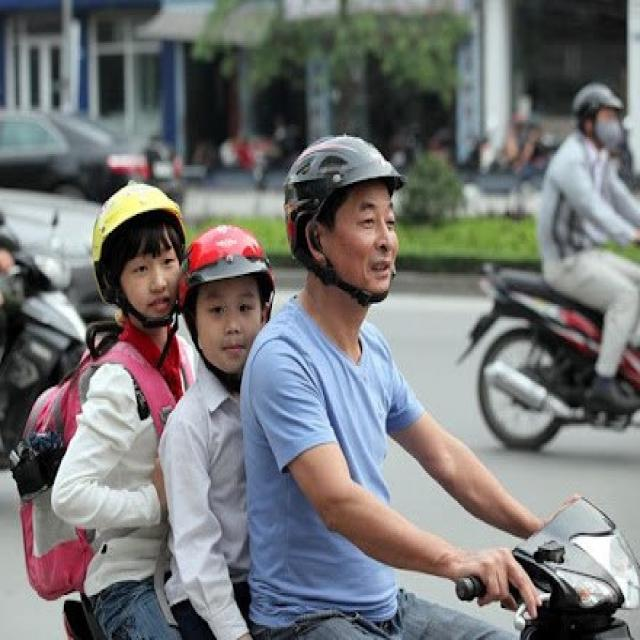1-2-helmet: (282, 133, 409, 262), (176, 221, 277, 314), (90, 177, 187, 267)
